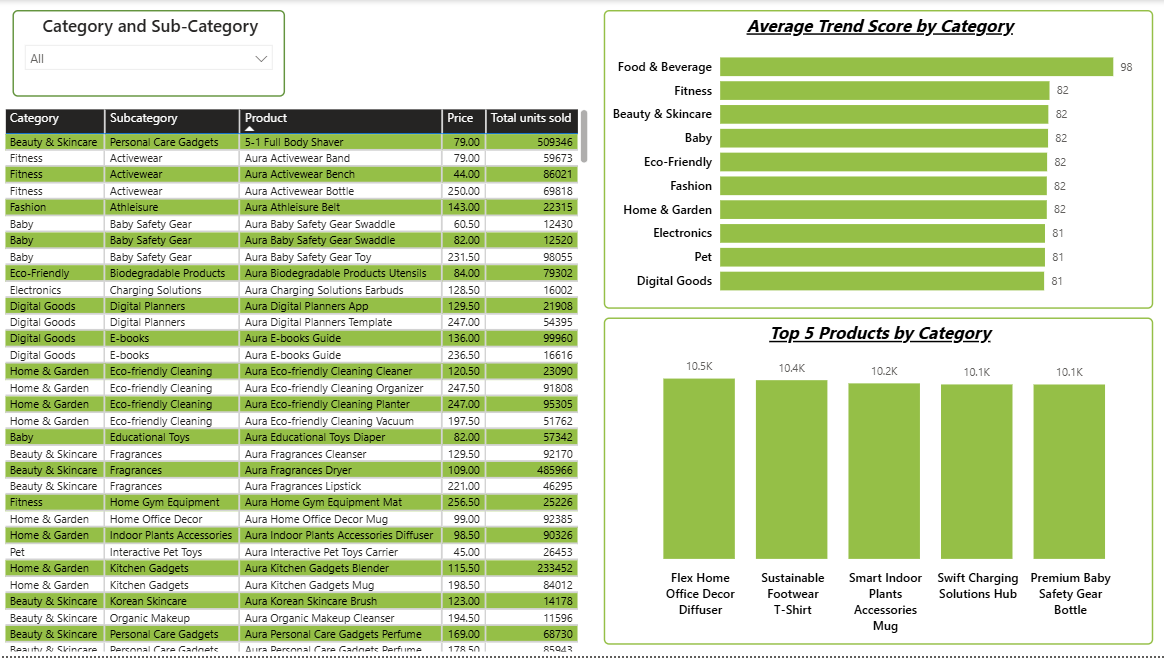

What the dashboard file says about the page in this screenshot:
{"tool":"powerbi","page":{"name":"Page 2","canvas":[1280,720],"ordinal":1},"visuals":[{"type":"slicer","title":"Category and Sub-Category","fields":{"Values":["public shopify_products.category","public shopify_products.subcategory"]},"box":[14.3,11.4,299.3,95.5],"z":0},{"type":"tableEx","fields":{"Values":["public shopify_products.category","public shopify_products.subcategory","public shopify_products.product_name","public shopify_products.price","public shopify_products.units_sold"]},"box":[0,114.9,650.5,605.3],"z":1000},{"type":"columnChart","title":"Top 5 Products by Category","fields":{"Y":["Sum(public shopify_products.units_sold)"],"Category":["public shopify_products.product_name"]},"box":[662.8,349.2,602.9,359.2],"z":2000},{"type":"clusteredBarChart","title":"Average Trend Score by Category","fields":{"Category":["public shopify_products.category"],"Y":["Avg(public shopify_products.trend_score)"]},"box":[662.8,11.4,602.9,327.8],"z":3000}]}

Visuals, with their boxes in screenshot pixels (x1, y1, x2, y2), scaled from the page's 1280x720 canvas onto the 1164x661 screenshot:
"Category and Sub-Category" slicer: rect(13, 10, 285, 98)
tableEx - public shopify_products.category x public shopify_products.subcategory: rect(0, 105, 592, 660)
"Top 5 Products by Category" columnChart: rect(603, 321, 1151, 650)
"Average Trend Score by Category" clusteredBarChart: rect(603, 10, 1151, 311)
